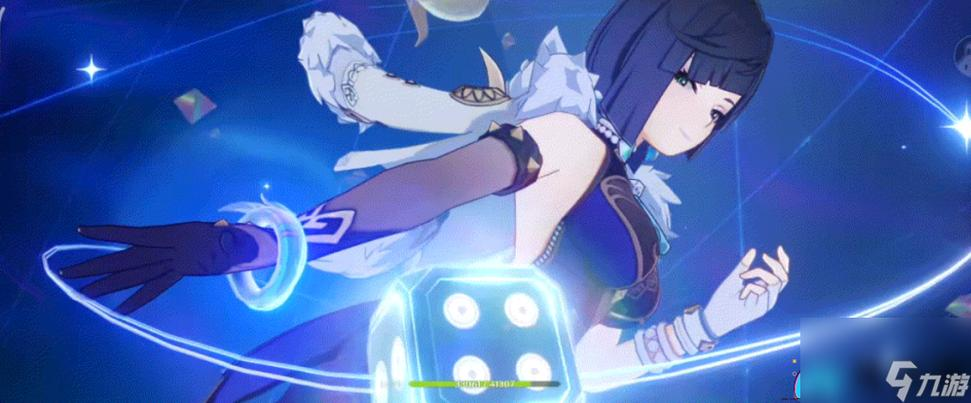夜兰: (49, 2, 799, 396)
